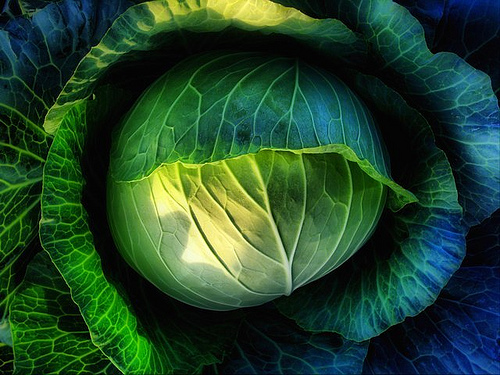cabbage: (106, 48, 420, 308)
